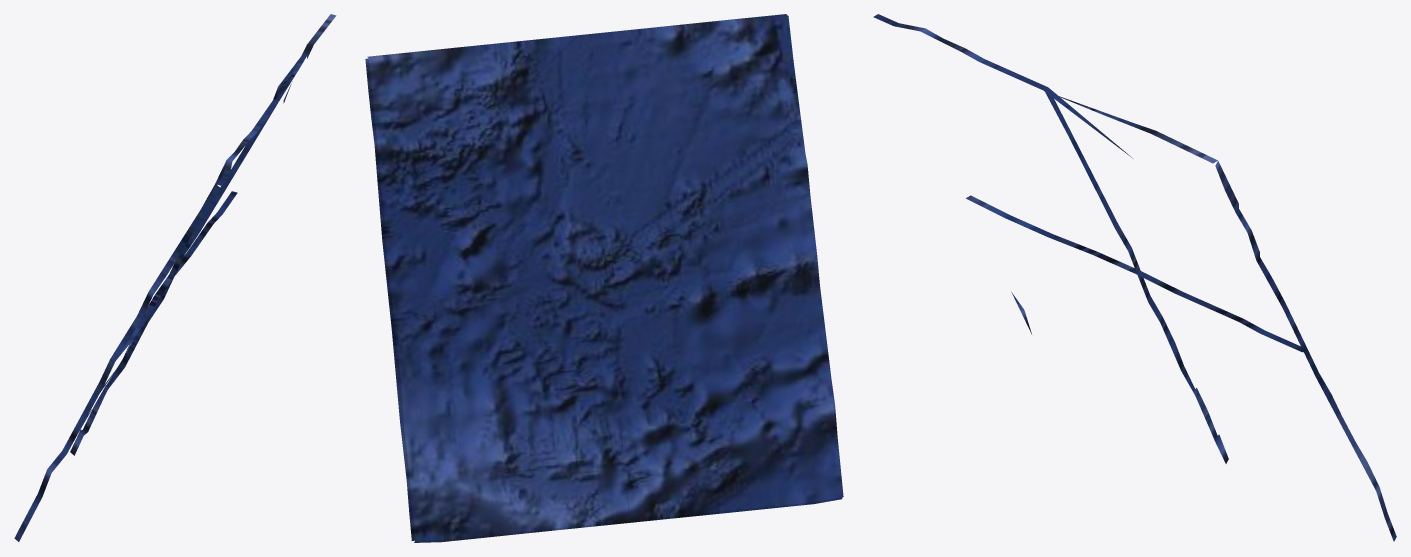
3 renders of one model, left to right at view 1: azimuth 30°, elevation 25°; view 2: azimuth 150°, elevation 25°; view 3: azimuth 270°, elevation 25°, orthographic. The views are drawn at different scales.
Size of the model in its own units: 301590 by 284255 by 298400.
1 material, 1 textured.
